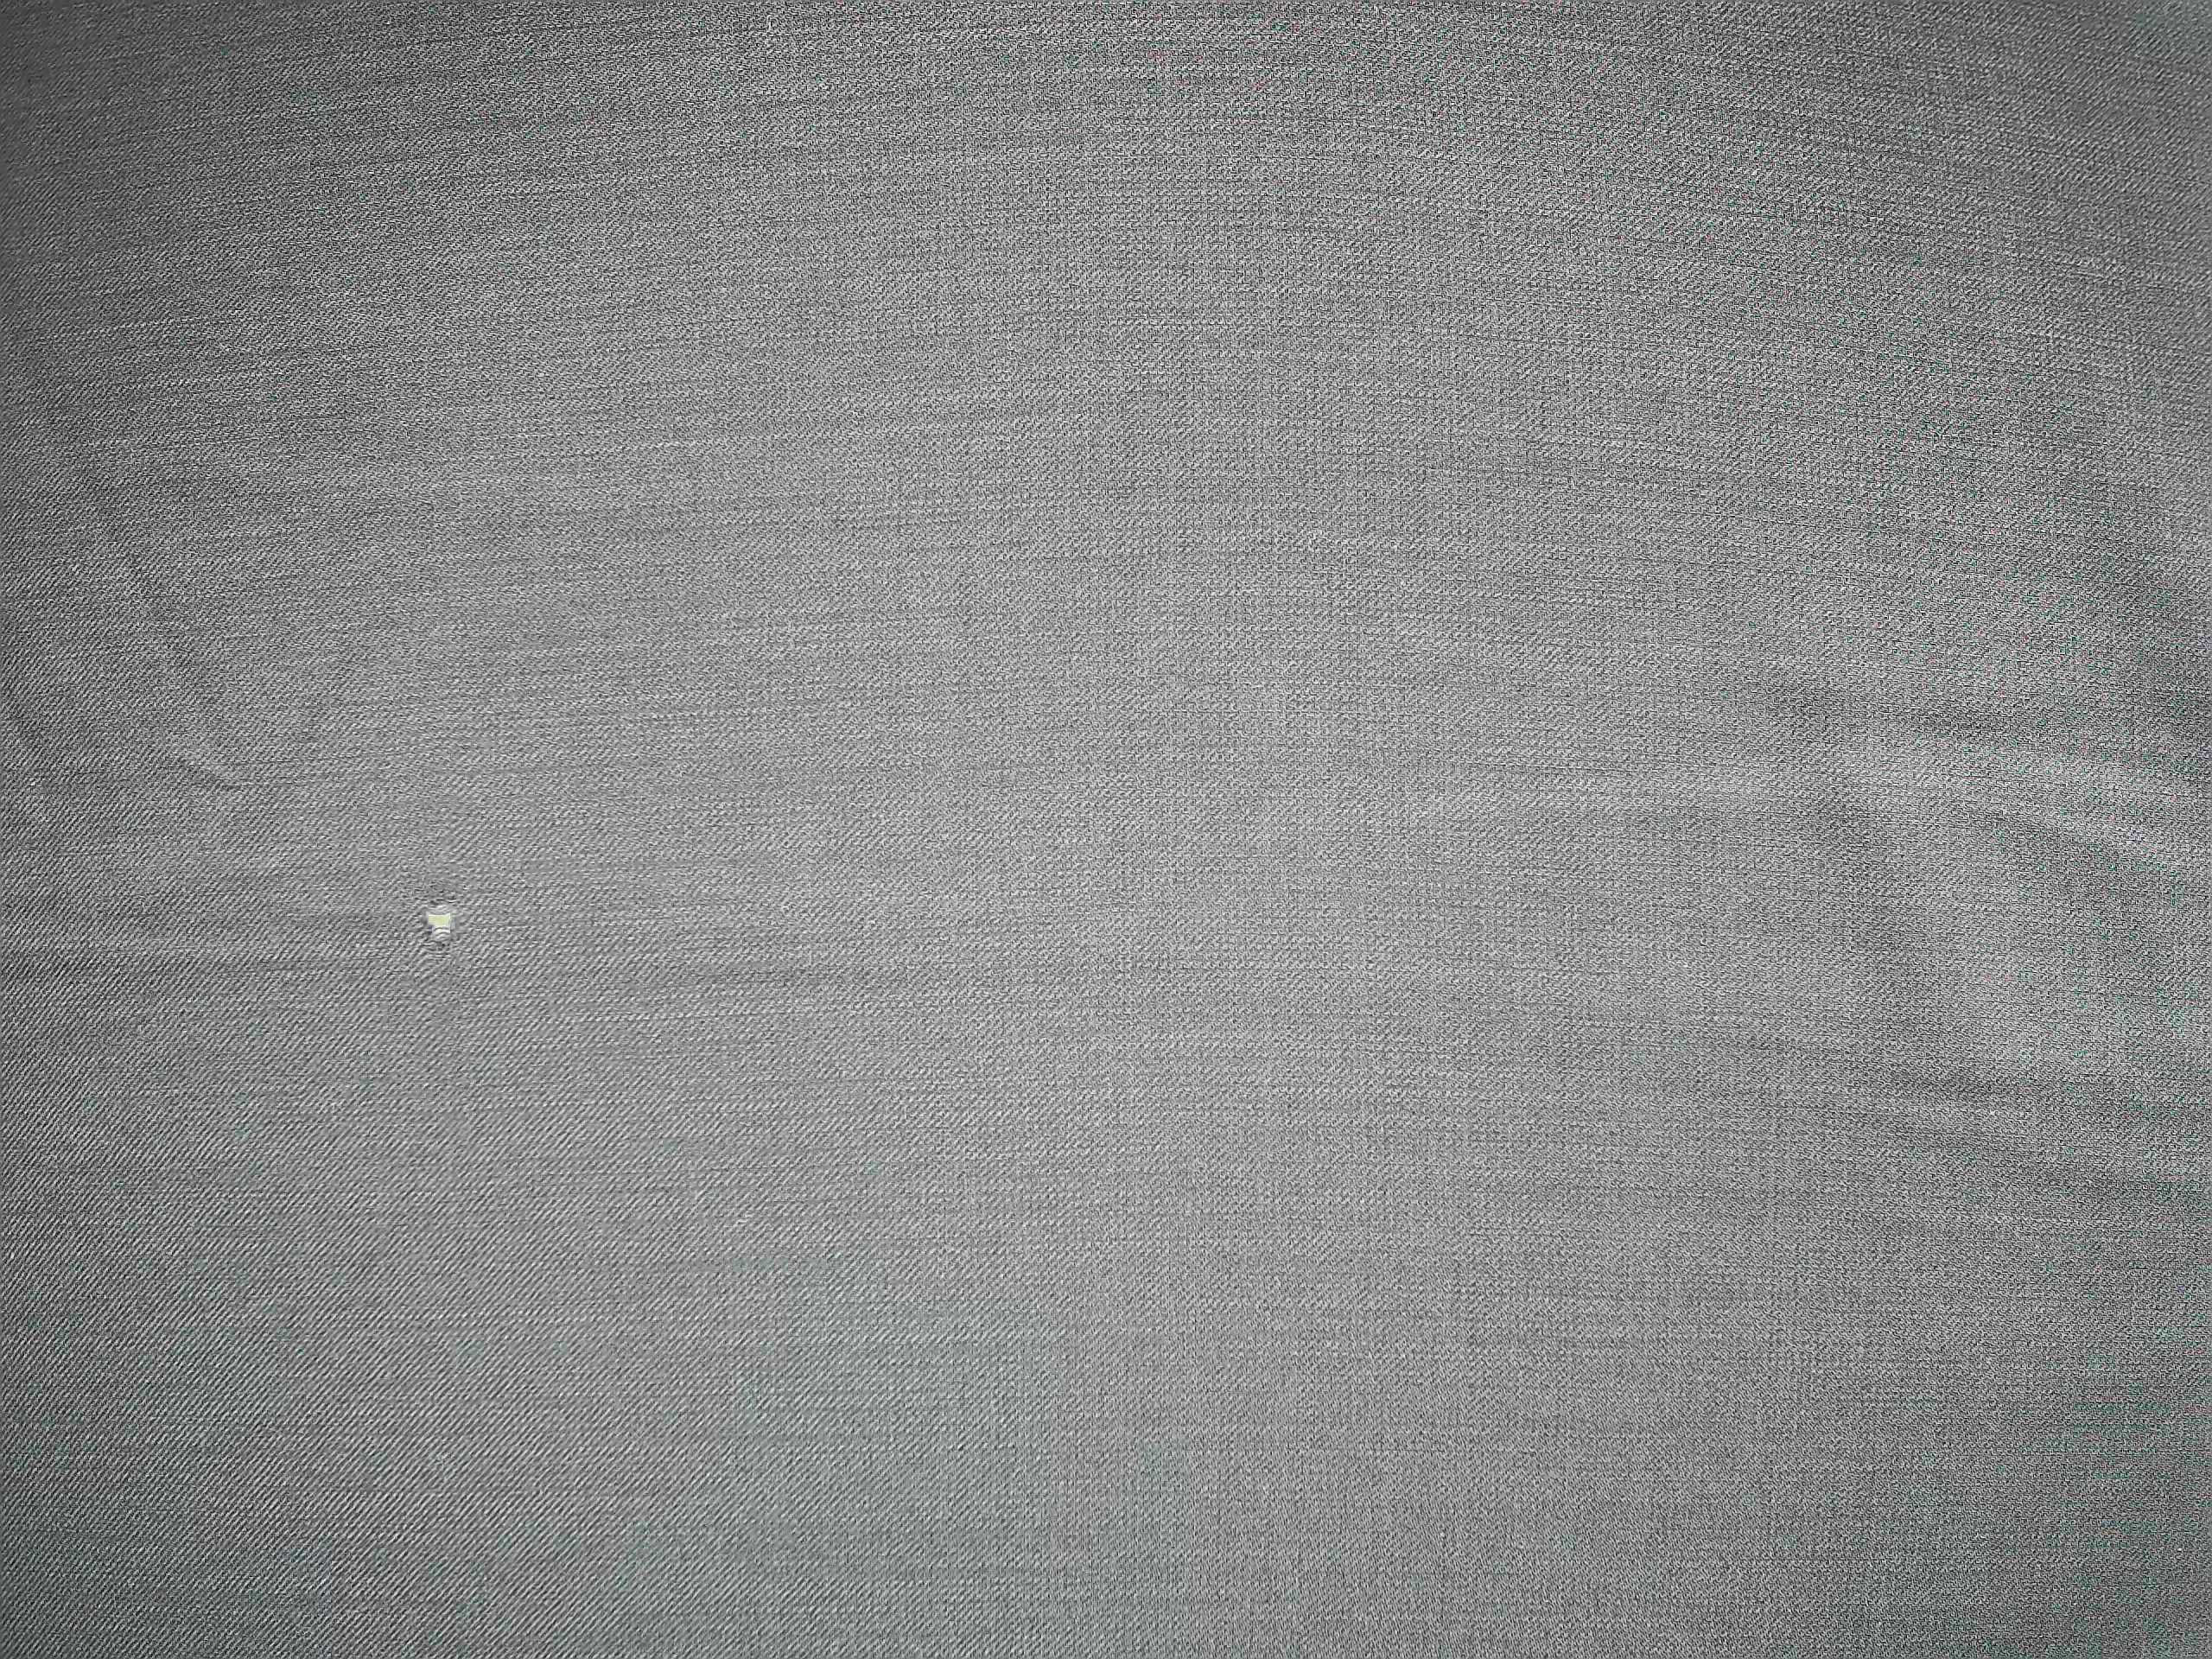rubbing-hole: (392, 878, 486, 969)
